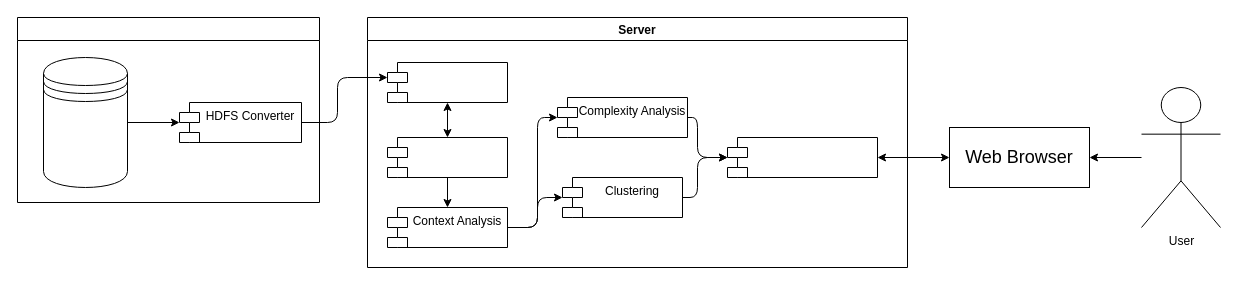
This 1238x285 diagram has some shape labels left out. The box of each missing label's shape, as (x1, y1, x2, y2) in pixels:
Database: (16, 16, 320, 202)
Map & Filter: (386, 136, 508, 178)
Presentation Layer: (726, 136, 878, 178)
Spark Streaming: (386, 62, 508, 102)
